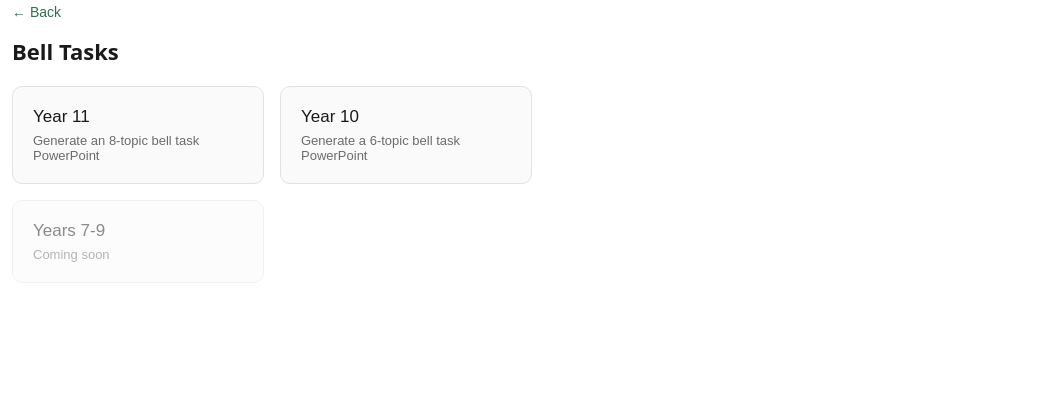
BellTasksView › shows 8 searchable topic boxes after choosing Year 11
The image size is (1048, 419).
Click the text "Year 11".
click(61, 116)  # box x1=33 y1=107 x2=90 y2=126
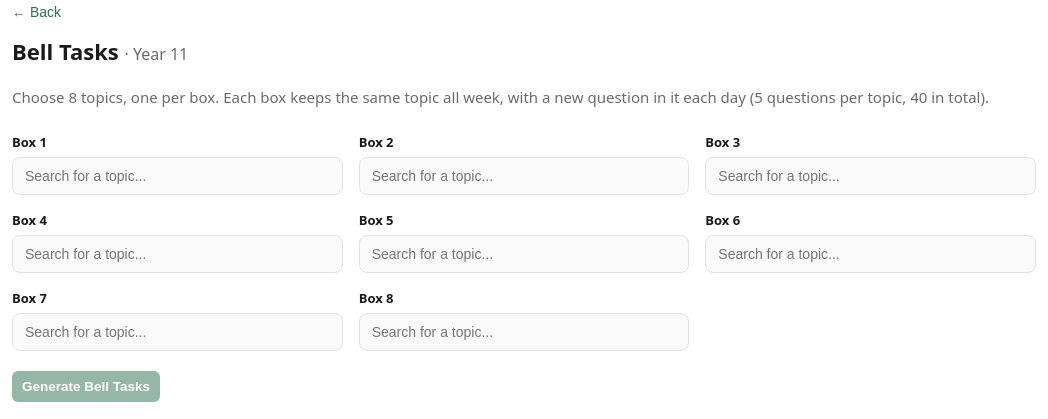
Expected: the number of dropdowns is 8
